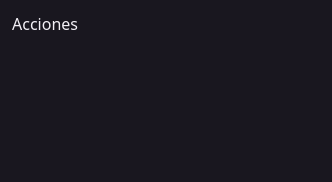
Menu › una acción danger dispara su callback y cierra el menú
This screenshot has width=332, height=182.
Click the button "Acciones" at (45, 24), box [12,12,78,36]
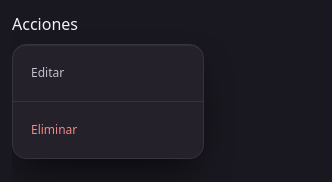
Click the menu item "Eliminar" at (54, 130), box [31,121,77,138]
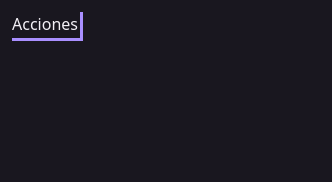
Check: the menu is gone
